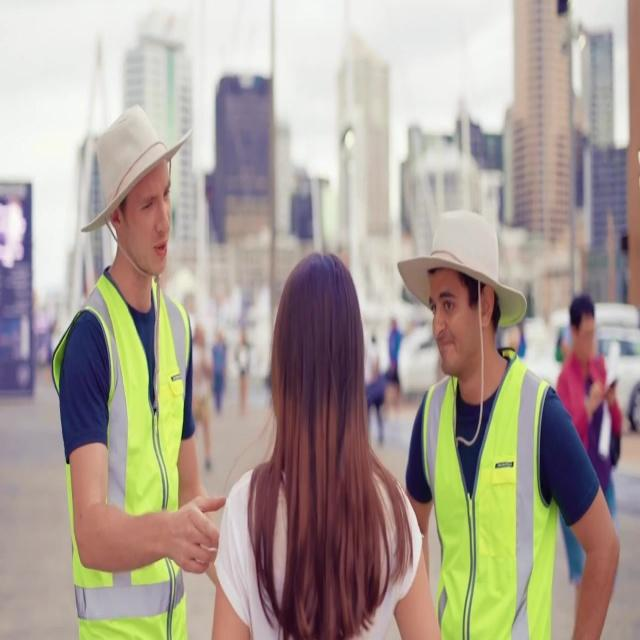vest: (48, 353, 194, 640), (420, 460, 556, 640)
